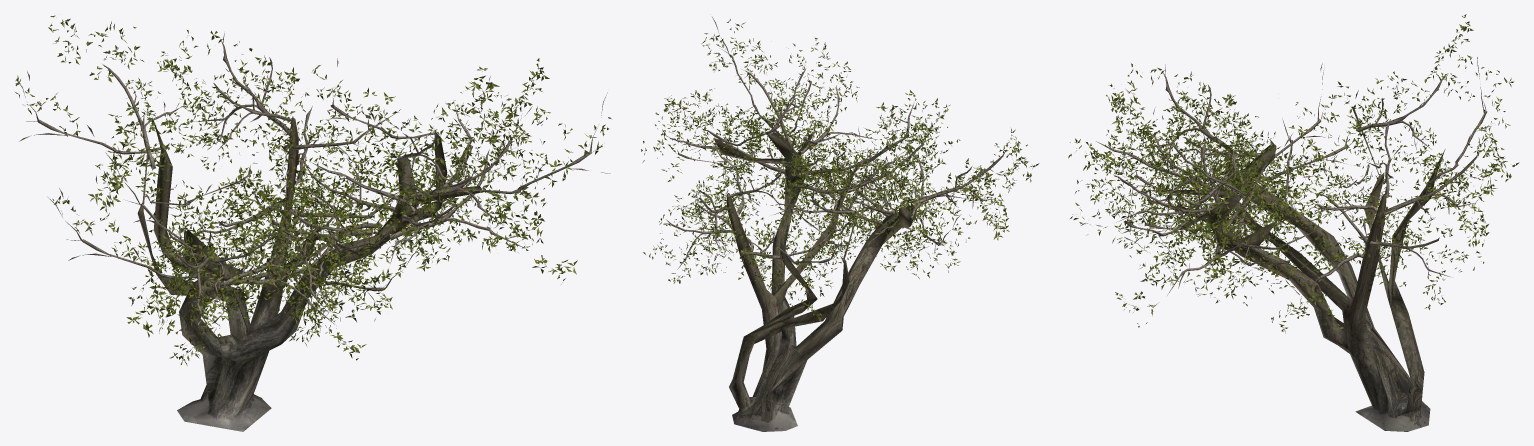
The model's file is tree_lo.glb.
3 views of the same model, side by side, from view 1: azimuth 30°, elevation 25°; view 2: azimuth 150°, elevation 25°; view 3: azimuth 270°, elevation 25° (orthographic). The views are drawn at different scales.
Parts seen in each view (by area): view 1: island_tree_02_LOD0; view 2: island_tree_02_LOD0; view 3: island_tree_02_LOD0.
Boxes of the visible parts, x1,y1,x2,y2 form: island_tree_02_LOD0: [15, 15, 611, 431]; island_tree_02_LOD0: [641, 17, 1039, 431]; island_tree_02_LOD0: [1068, 14, 1519, 431].
Bounding box in the file's own units: 3.99 × 3.4 × 4.03.
3 materials, 3 textured.
